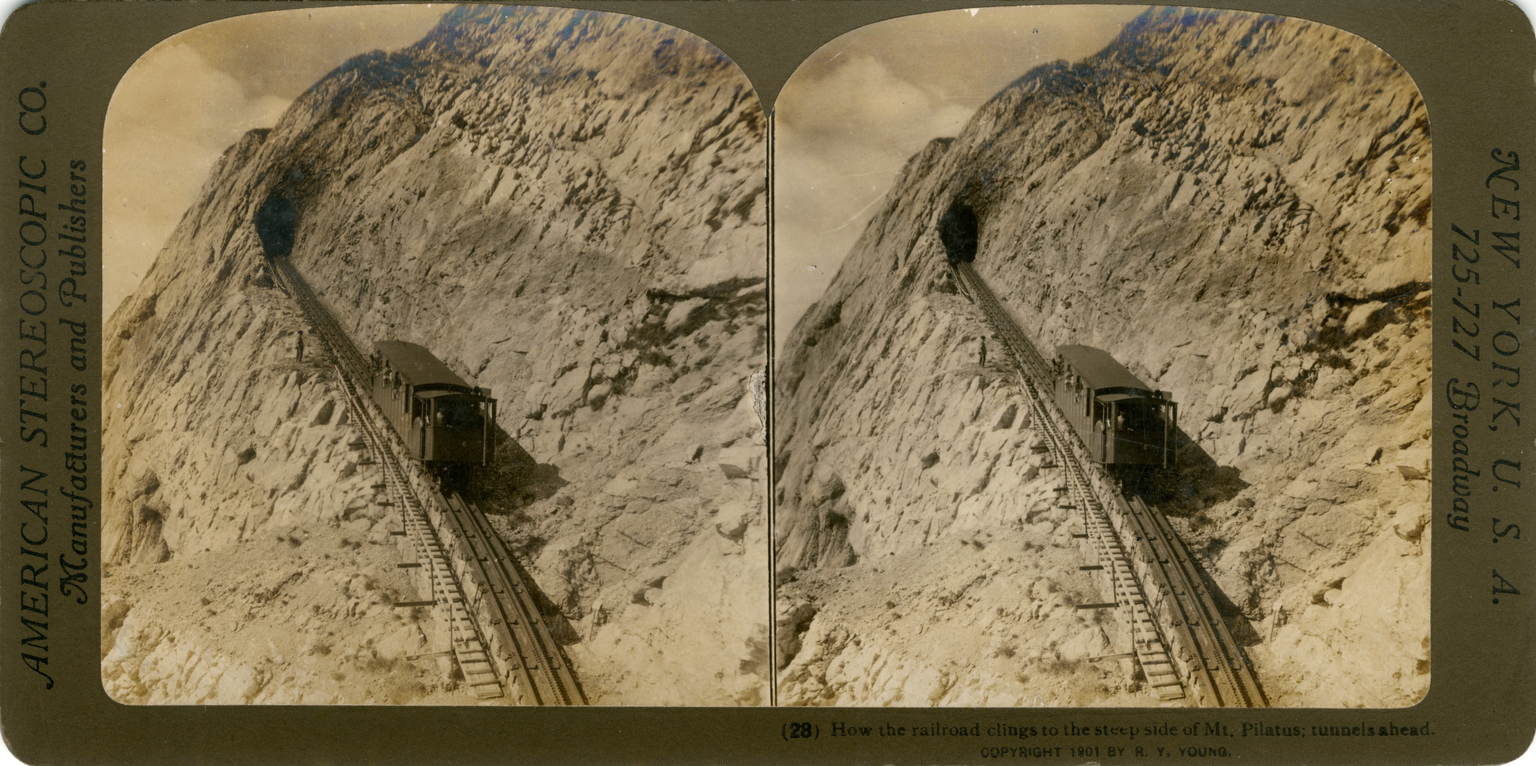half_image: (102, 2, 770, 708), (775, 6, 1433, 710)
